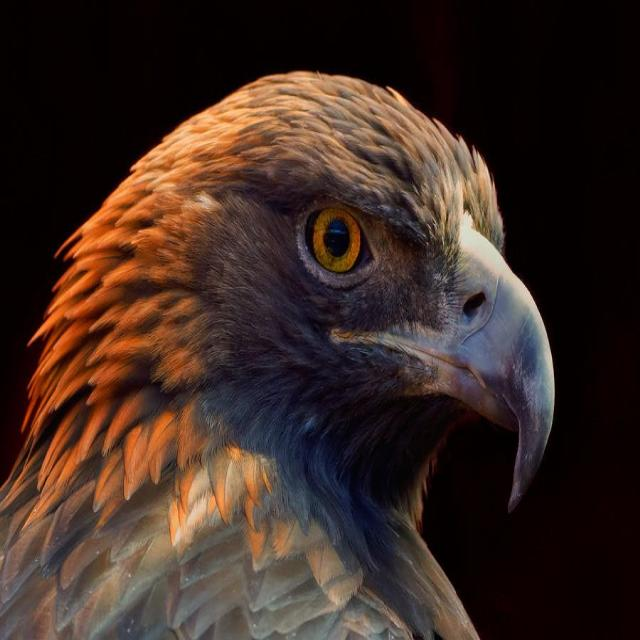Eagle: (0, 57, 556, 640)
